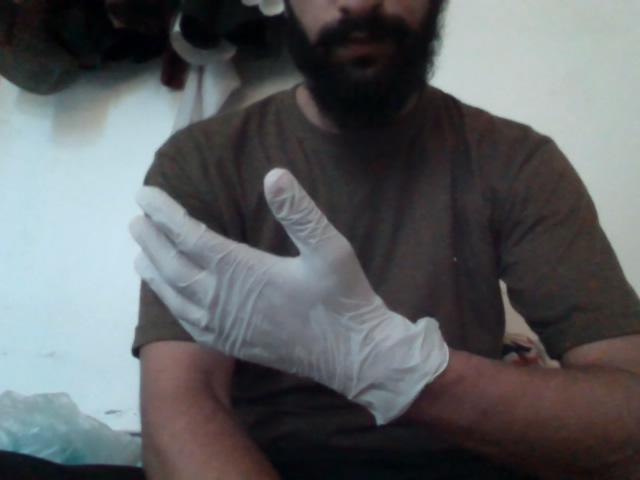gloves: (111, 139, 457, 427), (220, 183, 229, 184)
